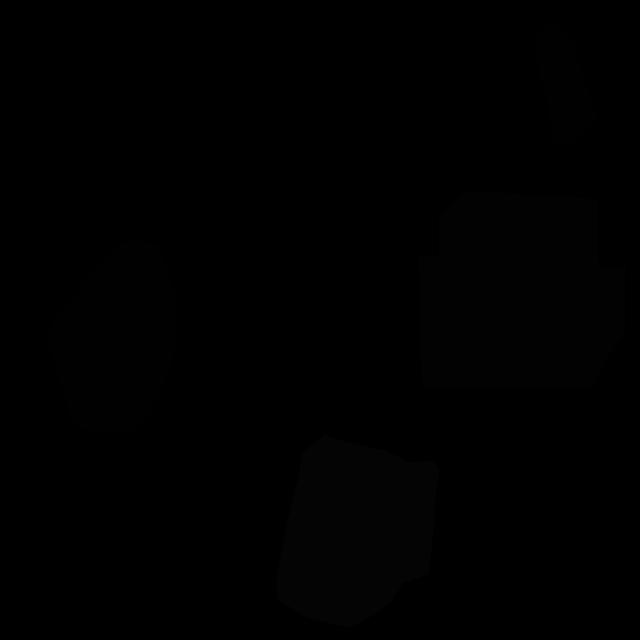cardboard: (419, 191, 626, 390)
rigid_plastic: (48, 239, 179, 435), (535, 22, 598, 147)
soft_plastic: (276, 434, 440, 628)
